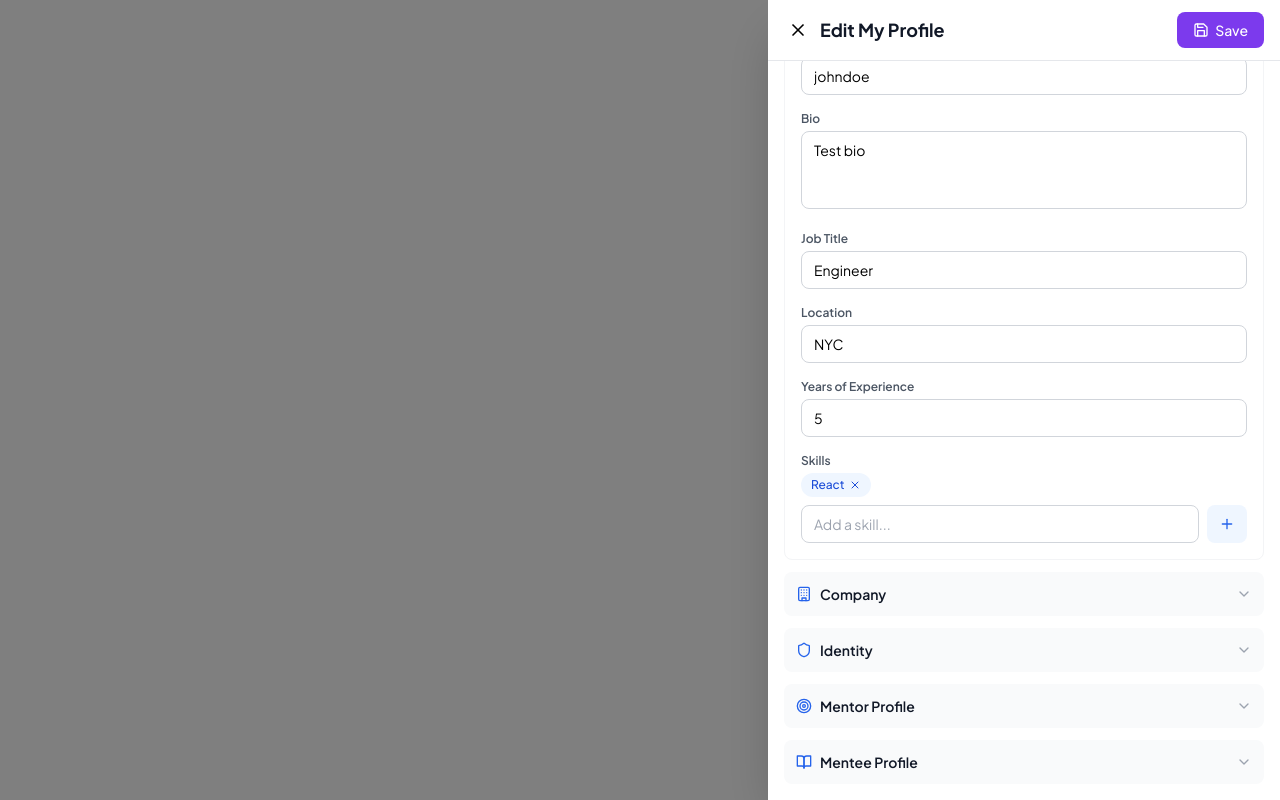
Test: EditProfilePanel › expands and collapses sections
(page scrolled)
Expected: the heading "Edit My Profile" is shown, [820,16,944,44]
Expected: the text "Career Level" is not shown
Click the button "Identity": (846,650) [784,628,1264,672]
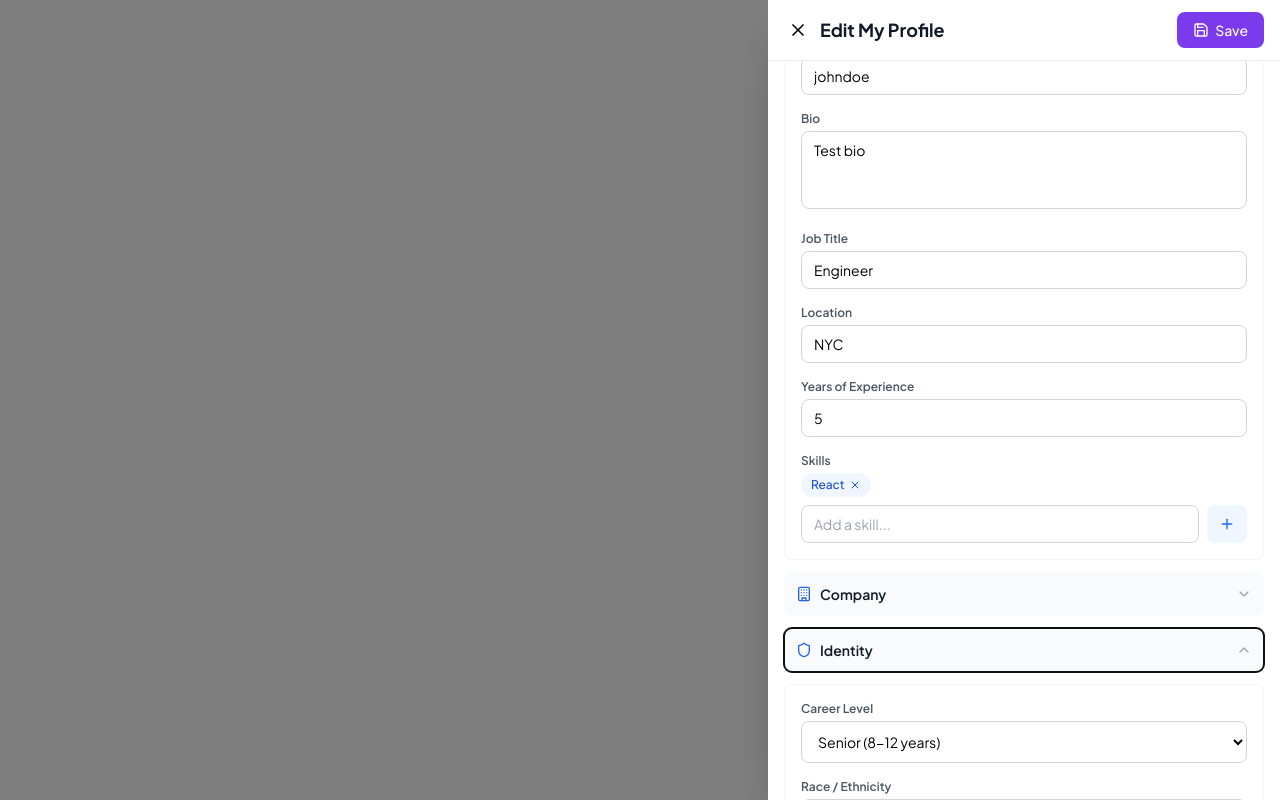
Now the text "Career Level" is shown, box [801,701,873,716]
